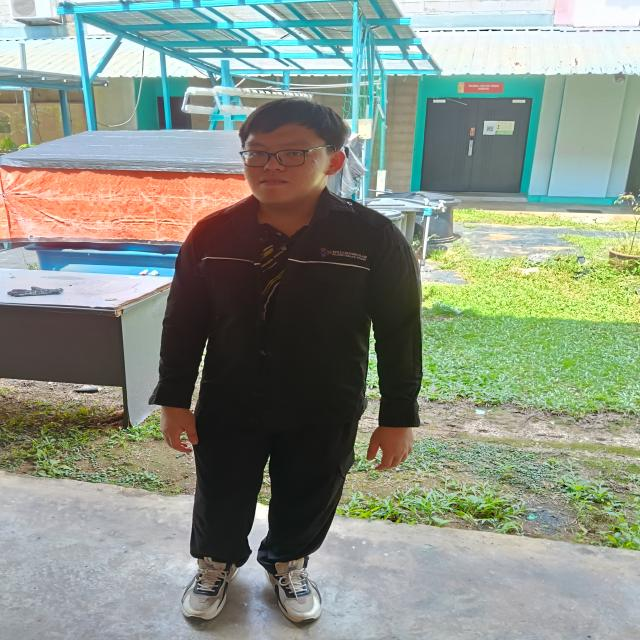person_with_labcoat: (150, 98, 421, 622)
